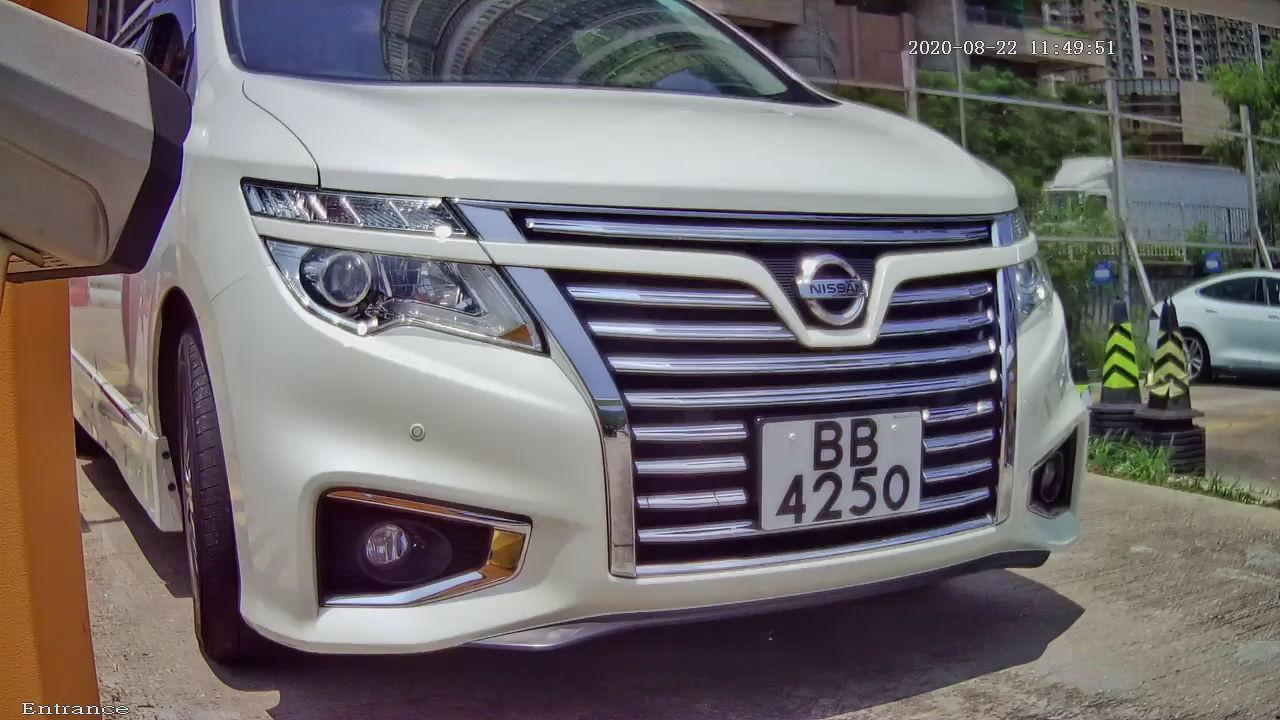License Plate: (738, 386, 943, 553)
